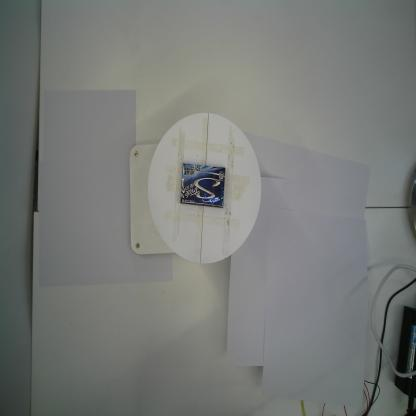Gum: (178, 160, 226, 209)
